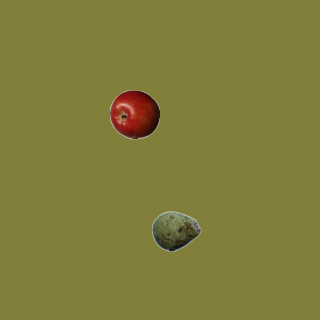Apple Braeburn: (109, 89, 159, 139)
Pear Stone: (151, 206, 201, 256)
